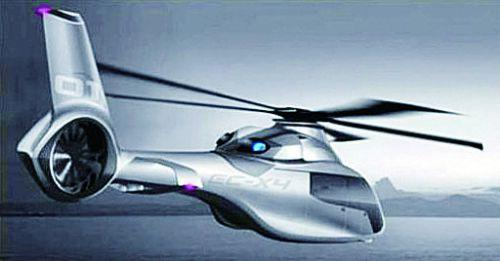airplane: (22, 2, 482, 248)
